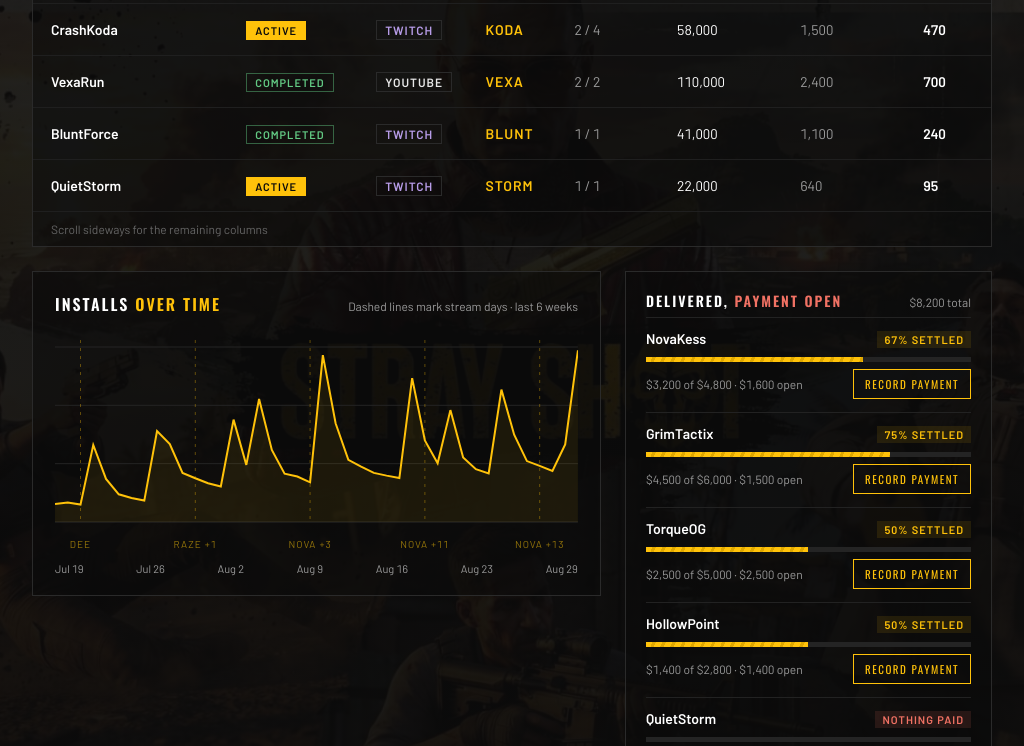
Test: recording a payment › says what the balance becomes before anything is saved
(page scrolled)
Click the button "Record payment" in the row of "$1,600" at (912, 384), box [853,369,971,399]
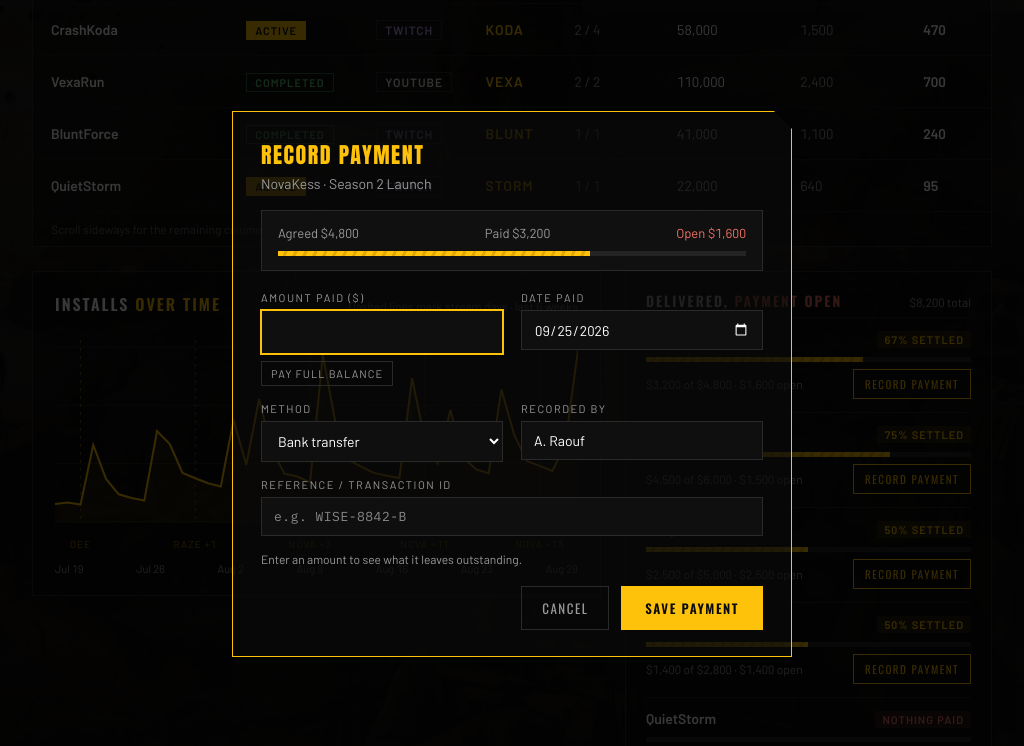
Type "500" into the field named "Amount paid in dollars" at (382, 332), box [261,310,503,354]
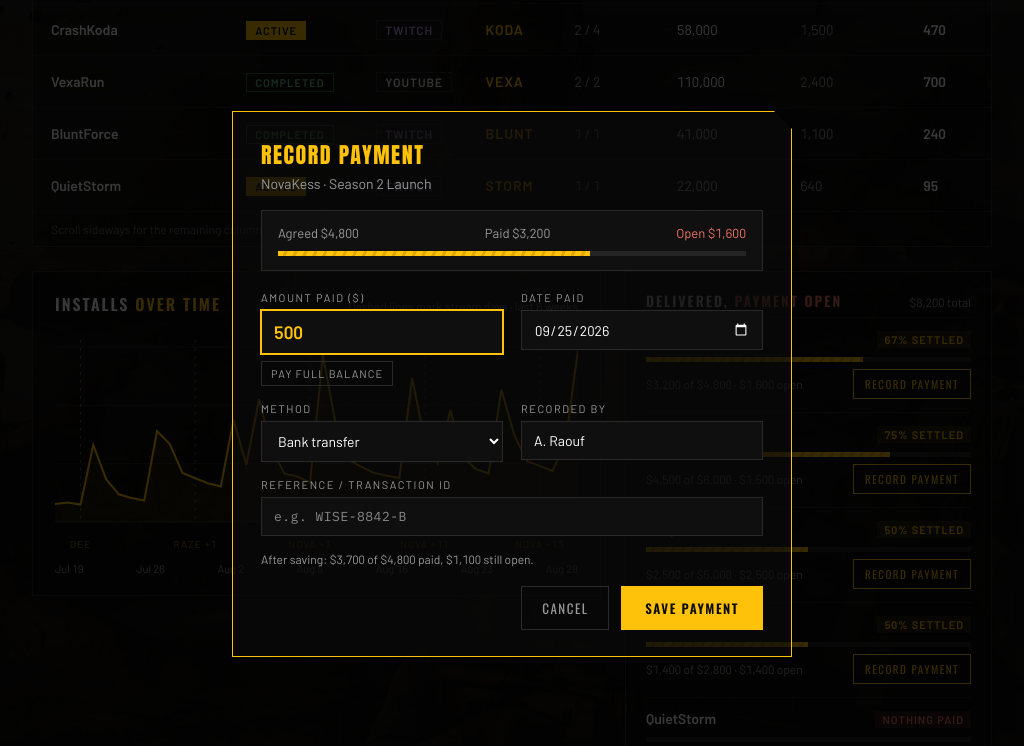
Expected: the message shows "After saving", [261,552,534,566]
Expected: the message shows "still open", [261,552,534,566]
